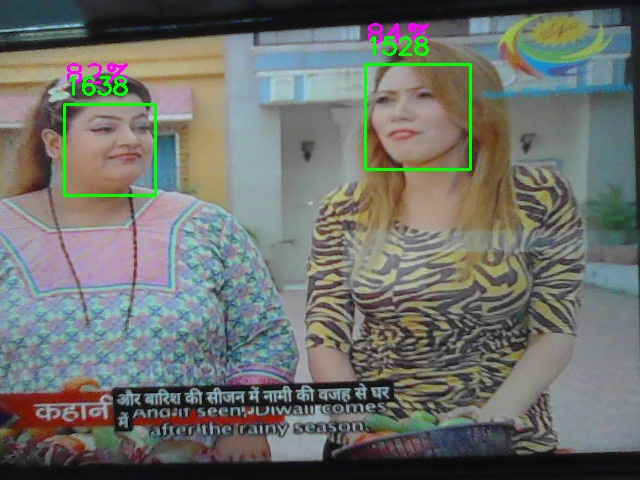fake: (365, 64, 471, 170), (64, 104, 156, 196)
